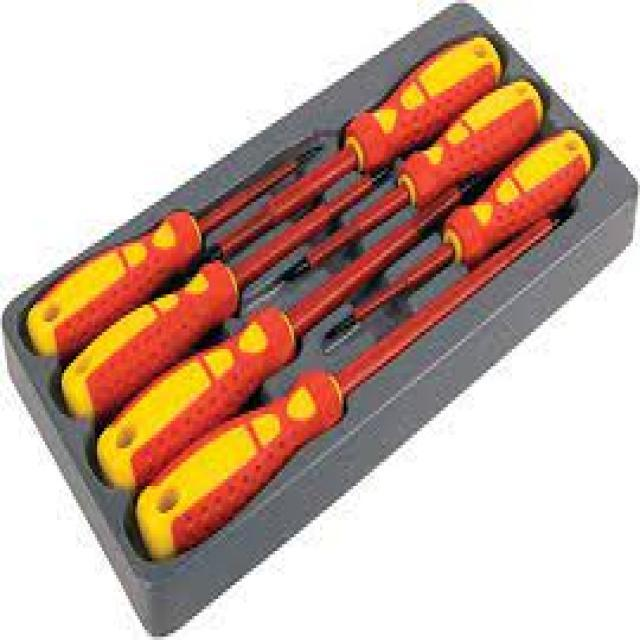screwdriver: (132, 212, 566, 568), (94, 166, 488, 495), (56, 164, 394, 428), (197, 28, 507, 270), (21, 138, 325, 362), (320, 125, 593, 348), (281, 62, 544, 284)
